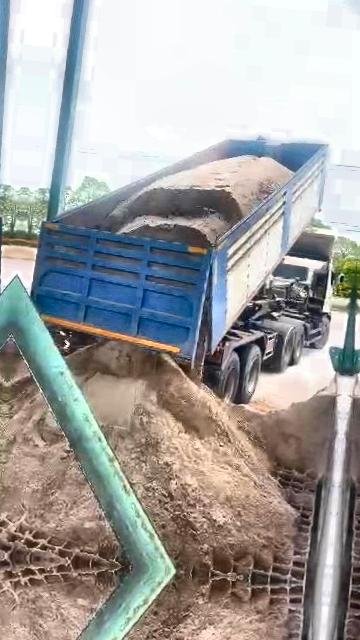sand: (69, 342, 329, 573), (0, 341, 118, 557), (107, 156, 293, 245), (187, 291, 207, 380), (248, 397, 279, 413)
